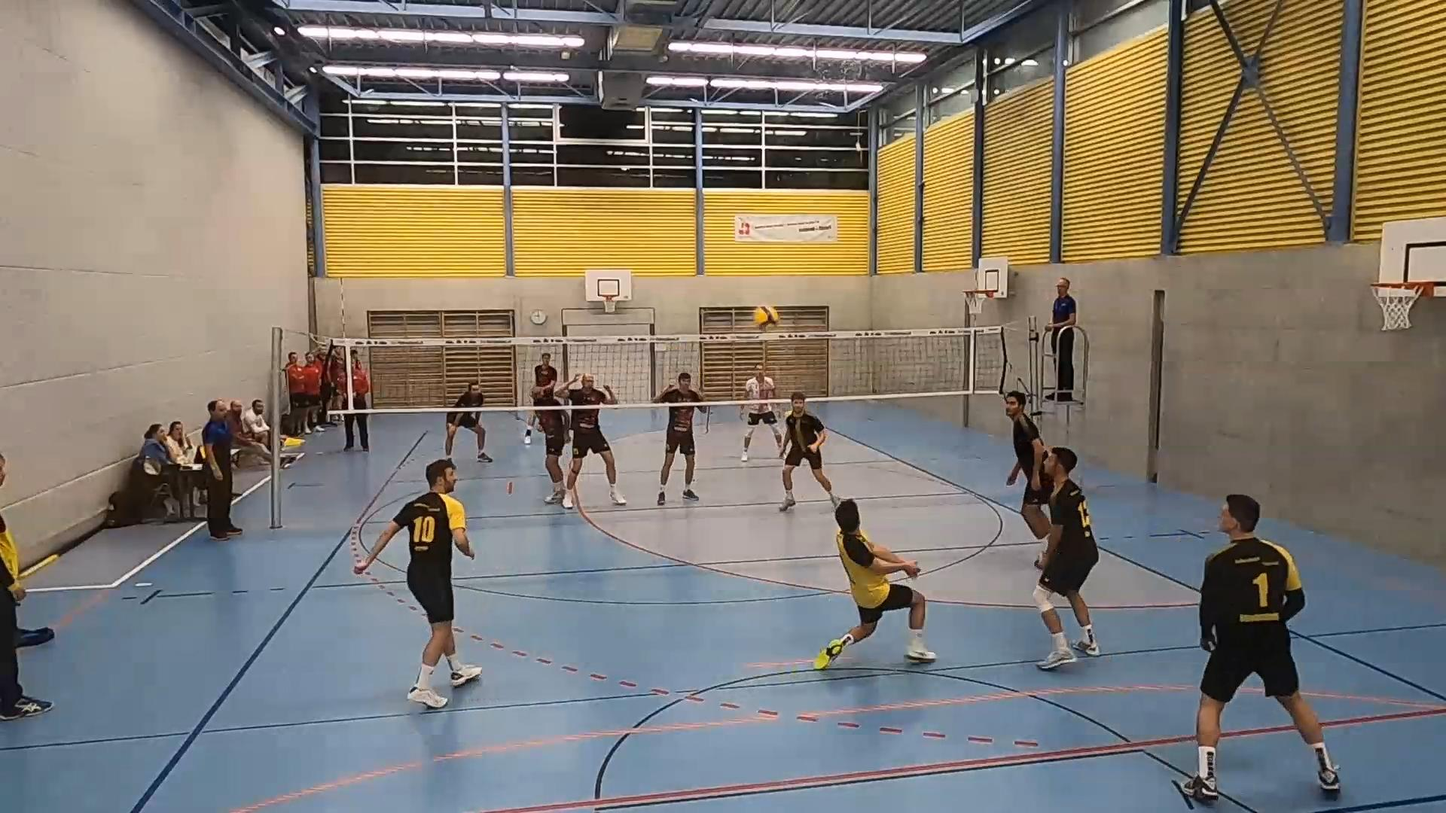ricezione: (805, 492, 936, 675)
